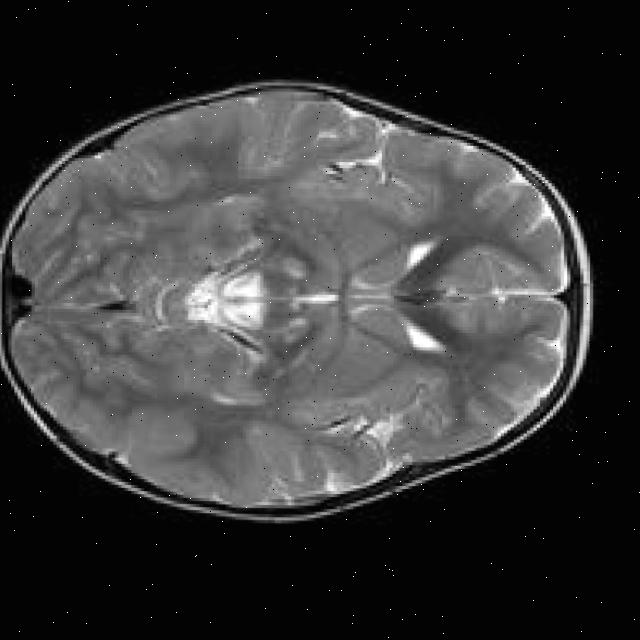NoTumor: (0, 79, 577, 519)
